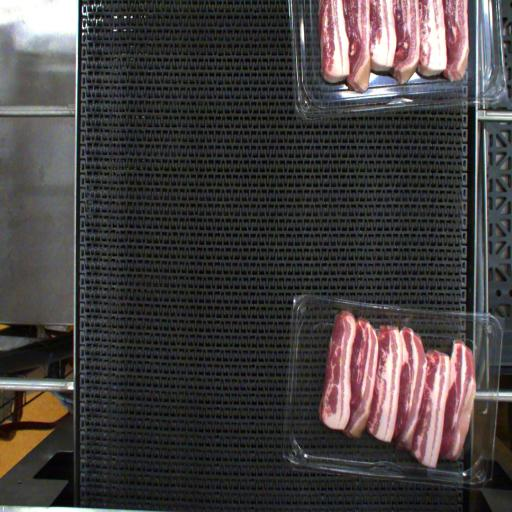packaging-error: (340, 302, 355, 315)
